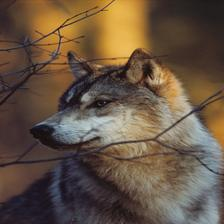WOLF: (30, 50, 224, 224)
